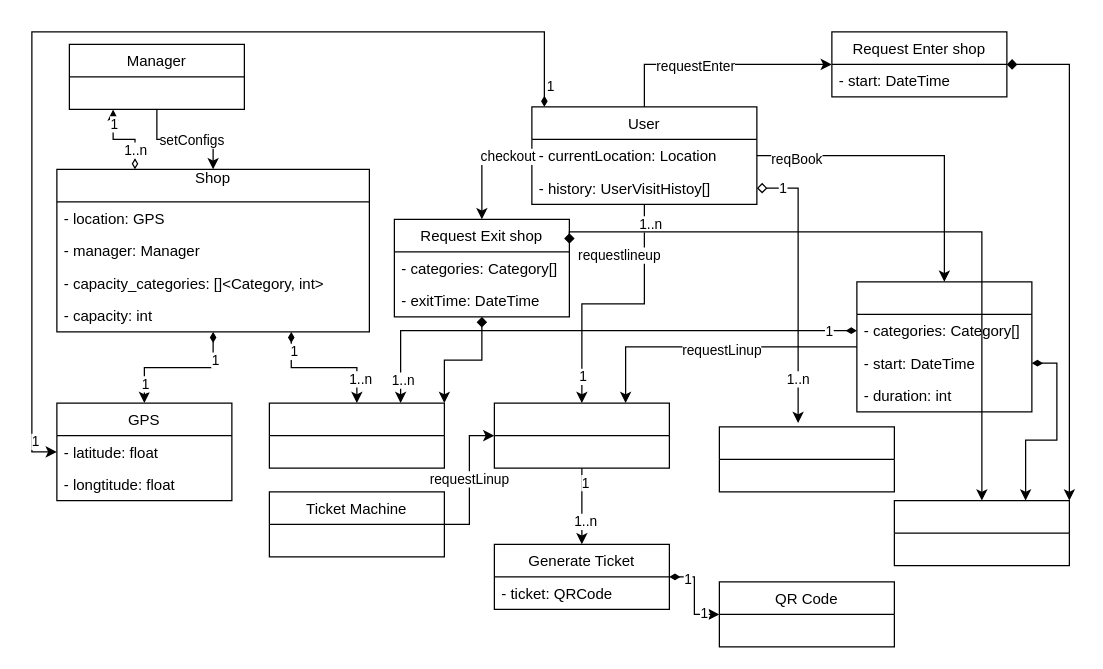
The diagram is 1103 pixels wide and 669 high, and some of its shapes have lost their labels. The box of each missing label's shape, as (x1, y1, x2, y2) in pixels:
Book visit: (856, 281, 1032, 412)
Category: (268, 402, 444, 468)
Customer Lineup Queues: (493, 402, 669, 468)
Date & Time: (893, 499, 1069, 566)
User visits history: (718, 426, 894, 492)
